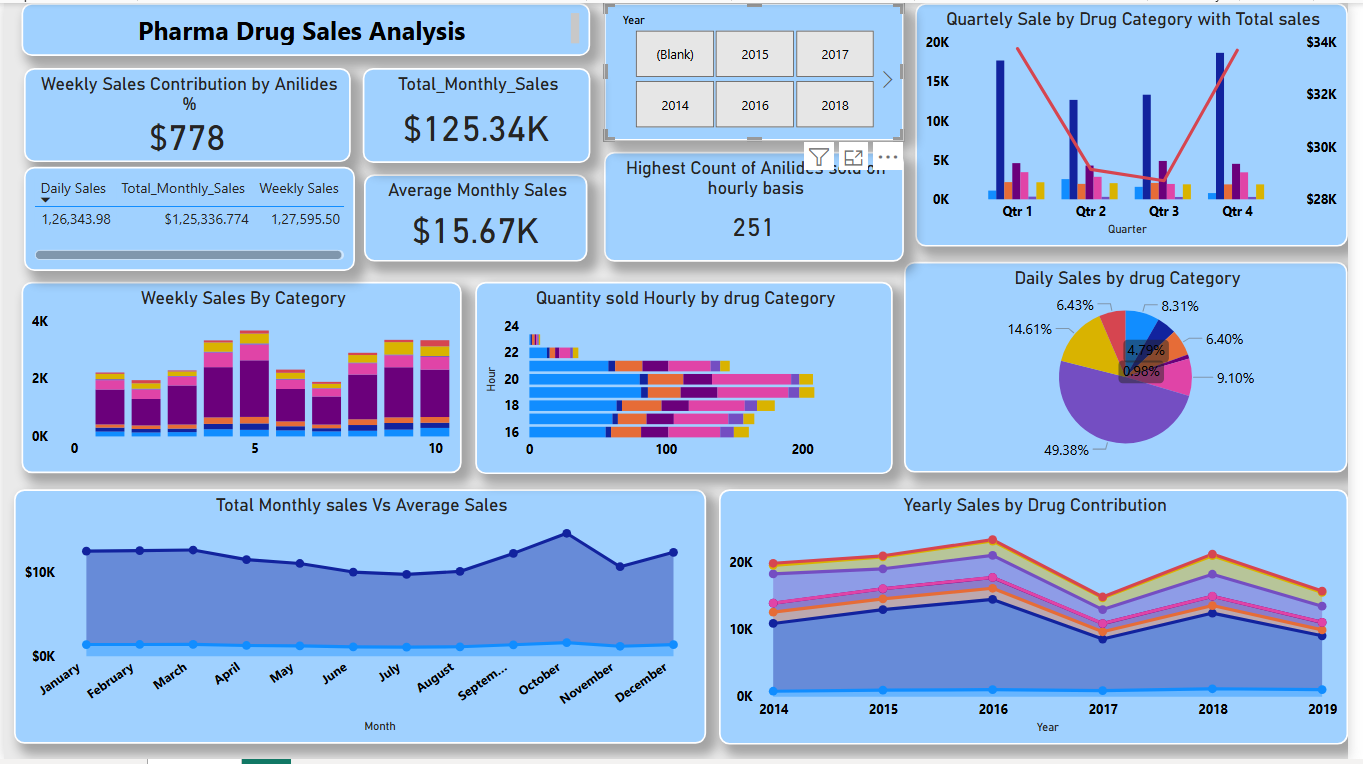

What the dashboard file says about the page in this screenshot:
{"tool":"powerbi","page":{"name":"Page 1","canvas":[1280,720],"ordinal":0},"visuals":[{"type":"textbox","box":[0,0,460,88],"z":0},{"type":"columnChart","title":"Weekly Sales By Category","fields":{"Category":["Sales Weekly.Week Num"],"Y":["Sum(Sales Weekly.M01AB)","Sum(Sales Weekly.M01AE)","Sum(Sales Weekly.N02BA)","Sum(Sales Weekly.N02BE)","Sum(Sales Weekly.N05B)","Sum(Sales Weekly.N05C)","Sum(Sales Weekly.R03)","Sum(Sales Weekly.R06)"]},"box":[7.6,247.8,445.7,206.5],"z":1},{"type":"stackedAreaChart","title":"Total Monthly sales Vs Average Sales ","fields":{"Category":["Sales Monthly.Date.Variation.Date Hierarchy.Month"],"Y":["Sales Monthly.Average Monthly Sales","Sales Monthly.Total_Monthly_Sales"]},"box":[9,463,648,244],"z":2},{"type":"barChart","title":"Quantity  sold Hourly by drug Category","fields":{"Category":["Sales Hourly.Hour"],"Y":["Count(Sales Hourly.Anilides)","Count(Sales Hourly.Allergy medicines)","Count(Sales Hourly.Pain relief medicines)","Count(Sales Hourly.Rheumatic products)","Count(Sales Hourly.Anti-inflammatory medicines)","Count(Sales Hourly.Anxiolytic medicines)","Count(Sales Hourly.Asthma/respiratory medicines)"]},"box":[453,238,458,216],"z":3},{"type":"pieChart","title":"Daily Sales by drug Category","fields":{"Y":["Sum(Sales Monthly.Anilides)","Sum(Sales daily.Allergy medicines)","Sum(Sales daily.Anti-inflammatory medicines)","Sum(Sales daily.Anxiolytic medicines)","Sum(Sales daily.Asthma/respiratory medicines)","Sum(Sales daily.Hypnotics and sedatives)","Sum(Sales daily.Pain relief medicines)"]},"box":[918,238,349,216],"z":4},{"type":"stackedAreaChart","title":"Yearly Sales by Drug Contribution","fields":{"Category":["Sales Monthly.Date.Variation.Date Hierarchy.Year"],"Y":["Sum(Sales Monthly.Allergy medicines)","Sum(Sales Monthly.Anilides)","Sum(Sales Monthly.Pain relief medicines)","Sum(Sales Monthly.Anti-inflammatory medicines)","CountNonNull(Sales Monthly.Rheumatic products)","Sum(Sales Monthly.Anxiolytic medicines)","Sum(Sales Monthly.Asthma/respiratory medicines)","Sum(Sales Monthly.Hypnotics and sedatives)"]},"box":[660,463,607,244],"z":5},{"type":"lineClusteredColumnComboChart","title":"Quartely Sale by Drug Category with Total sales","fields":{"Category":["Sales Monthly.Date.Variation.Date Hierarchy.Quarter"],"Y":["Sum(Sales Monthly.Allergy medicines)","Sum(Sales Monthly.Anilides)","Sum(Sales Monthly.Anti-inflammatory medicines)","Sum(Sales Monthly.Anxiolytic medicines)","Sum(Sales Monthly.Asthma/respiratory medicines)","Sum(Sales Monthly.Hypnotics and sedatives)","Sum(Sales Monthly.Pain relief medicines)"],"Y2":["Sales Monthly.Total_Monthly_Sales"]},"box":[640,0,633,229],"z":6},{"type":"card","fields":{"Values":["Sales Weekly.Average Weekly Sales"]},"box":[247.8,93.5,164.1,144.6],"z":7},{"type":"card","fields":{"Values":["Sales Hourly.Weekly Sales Contribution by Anilides %"]},"box":[7.6,93.5,230.4,81.5],"z":8},{"type":"card","fields":{"Values":["Sales Hourly.Highest Hourly Drug Sales"]},"box":[8.7,175,229.3,63],"z":9},{"type":"slicer","fields":{"Values":["Sales Monthly.Date.Variation.Date Hierarchy.Year"]},"box":[477,0,157,84],"z":10},{"type":"tableEx","fields":{"Values":["Sales Monthly.Total_Monthly_Sales","Sales daily.Daily Sales"]},"box":[432.6,93.5,201.1,135.9],"z":11}]}

Visuals, with their boxes in screenshot pixels (x1, y1, x2, y2), scaled from the page's 1280x720 canvas onto the 1363x764 screenshot:
textbox: 0/0/490/93
"Weekly Sales By Category" columnChart: 8/263/483/482
"Total Monthly sales Vs Average Sales " stackedAreaChart: 10/491/700/750
"Quantity  sold Hourly by drug Category" barChart: 482/253/970/482
"Daily Sales by drug Category" pieChart: 978/253/1349/482
"Yearly Sales by Drug Contribution" stackedAreaChart: 703/491/1349/750
"Quartely Sale by Drug Category with Total sales" lineClusteredColumnComboChart: 682/0/1356/243
card - Sales Weekly.Average Weekly Sales: 264/99/439/253
card - Sales Hourly.Weekly Sales Contribution by Anilides %: 8/99/253/186
card - Sales Hourly.Highest Hourly Drug Sales: 9/186/253/253
slicer - Sales Monthly.Date.Variation.Date Hierarchy.Year: 508/0/675/89
tableEx - Sales Monthly.Total_Monthly_Sales x Sales daily.Daily Sales: 461/99/675/243
